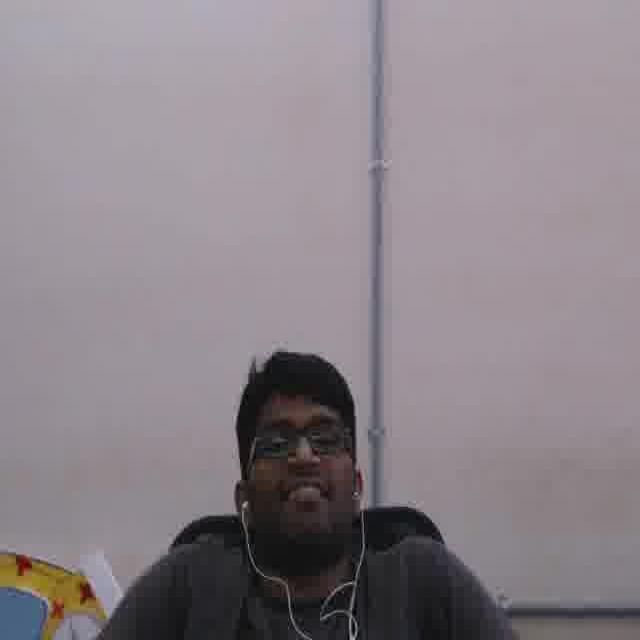Boredom: (249, 385, 349, 535)
